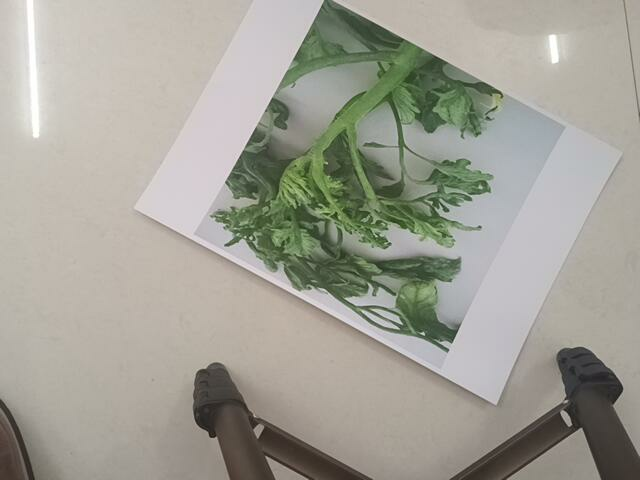Tomamto_Mosaic_virus: (257, 41, 495, 242)
